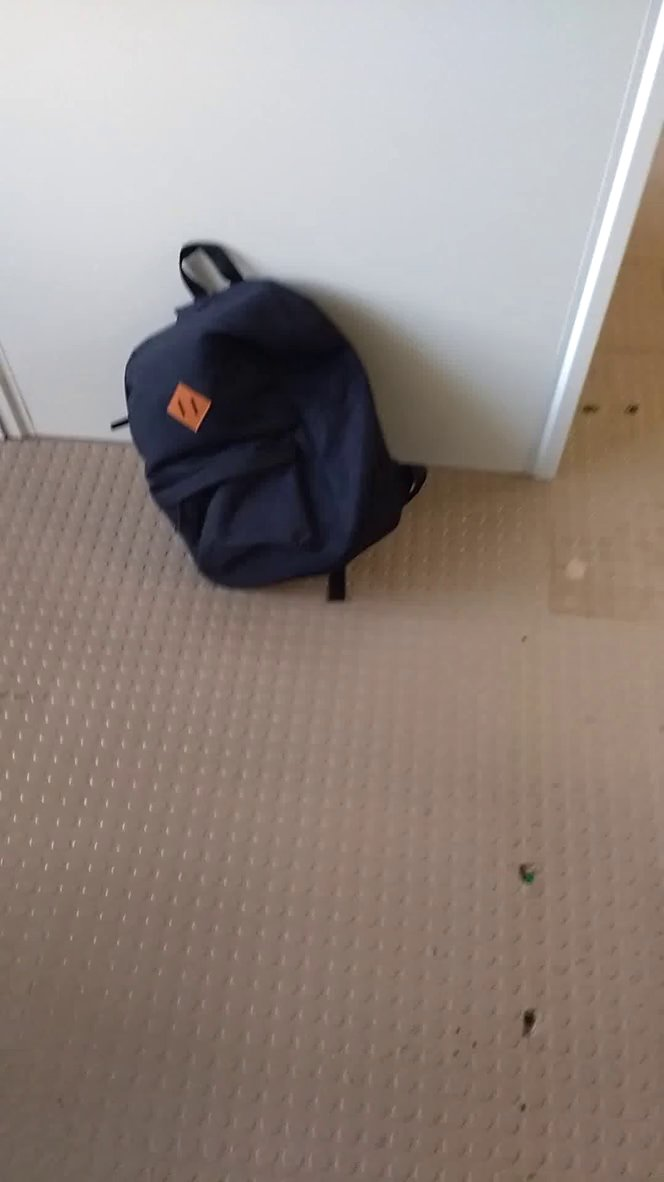bag: (91, 224, 452, 612)
